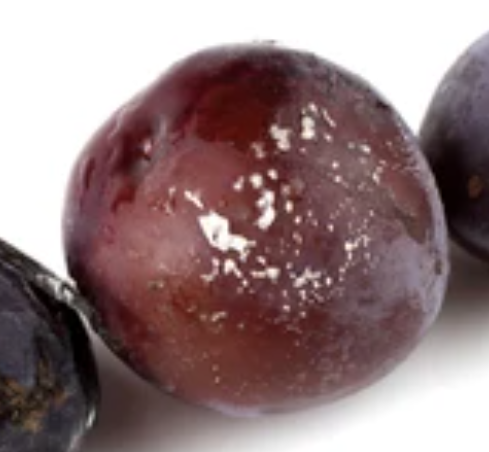plum_C: (60, 43, 451, 419)
